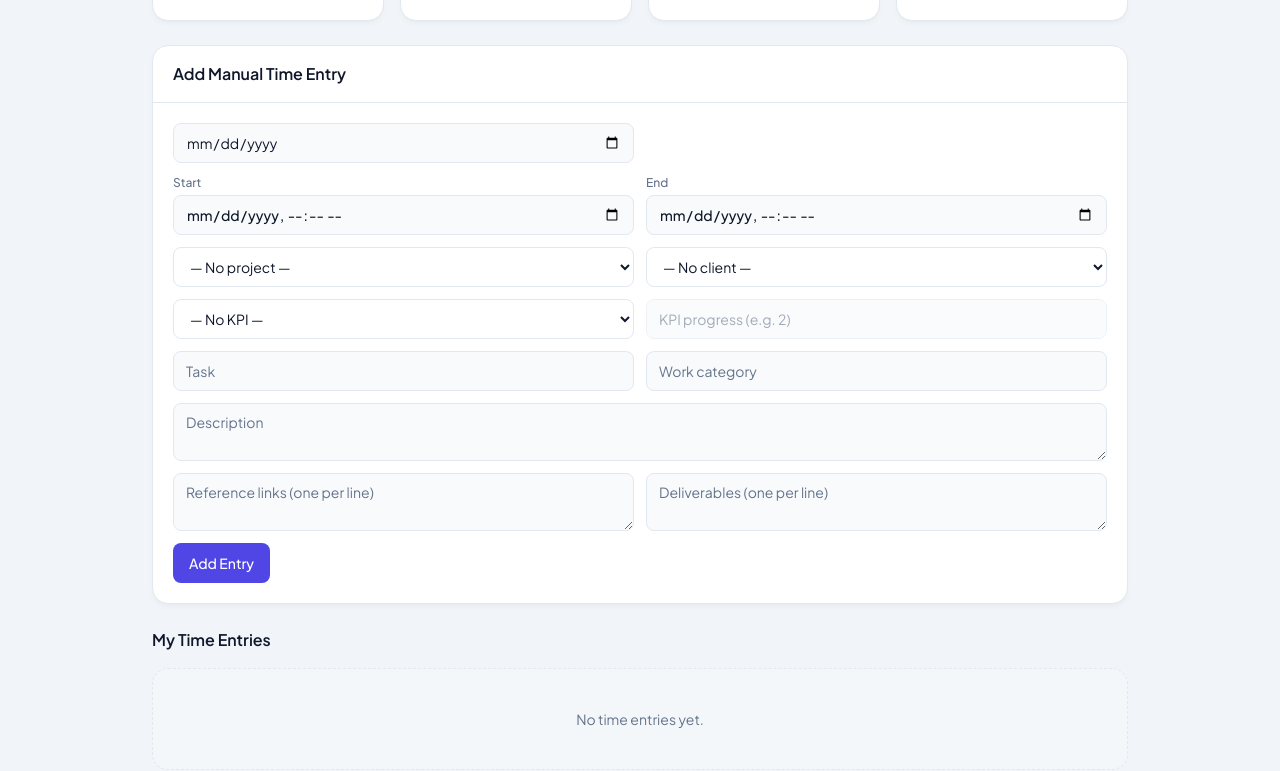
Test: TimeTrackingPage › displays field-level validation errors from a failed manual entry submission
The image size is (1280, 771).
(page scrolled)
Expected: the button "Add Entry" is shown, [173, 543, 270, 583]
Type "Overlap task" into the field with placeholder "Task".
click(404, 371); type("Overlap task")  # box [173, 351, 634, 391]
Type "Development" into the field with placeholder "Work category".
click(876, 371); type("Development")  # box [646, 351, 1107, 391]
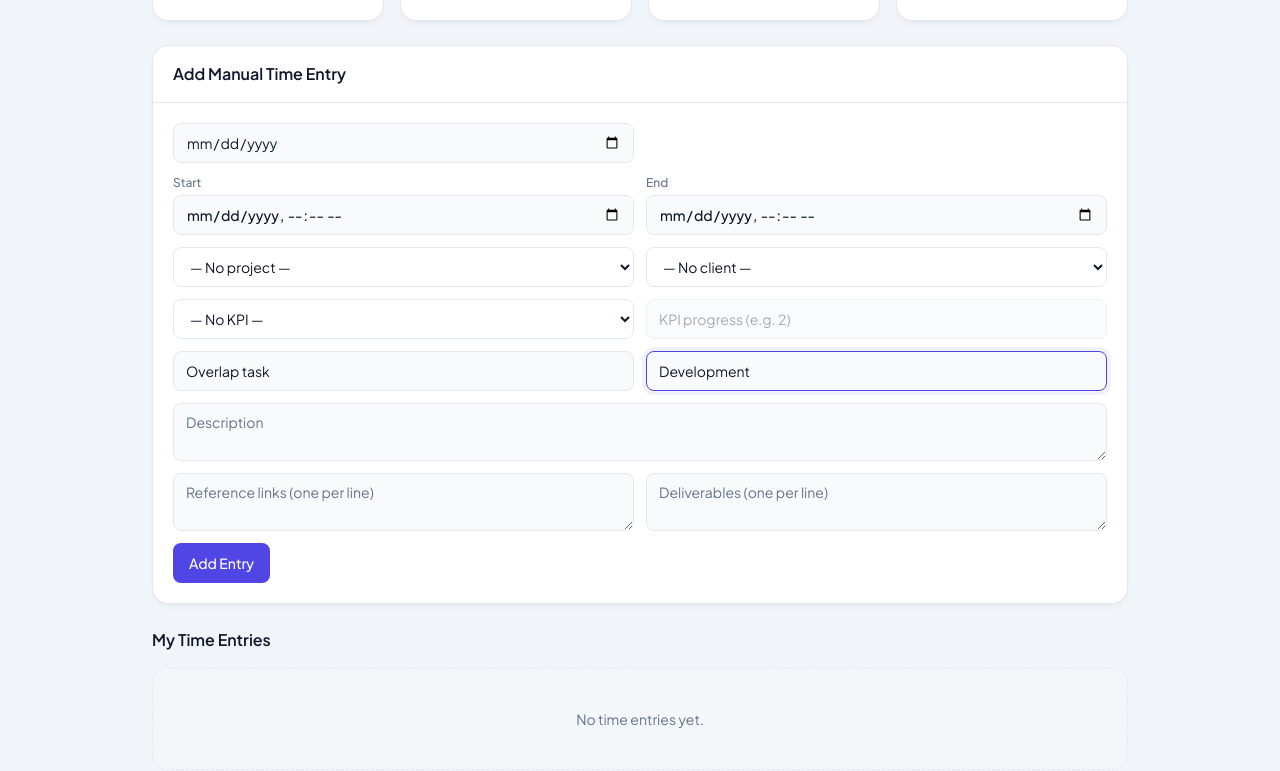
Type "Should fail." into the text box with placeholder "Description".
click(640, 432); type("Should fail.")  # box [173, 403, 1107, 461]
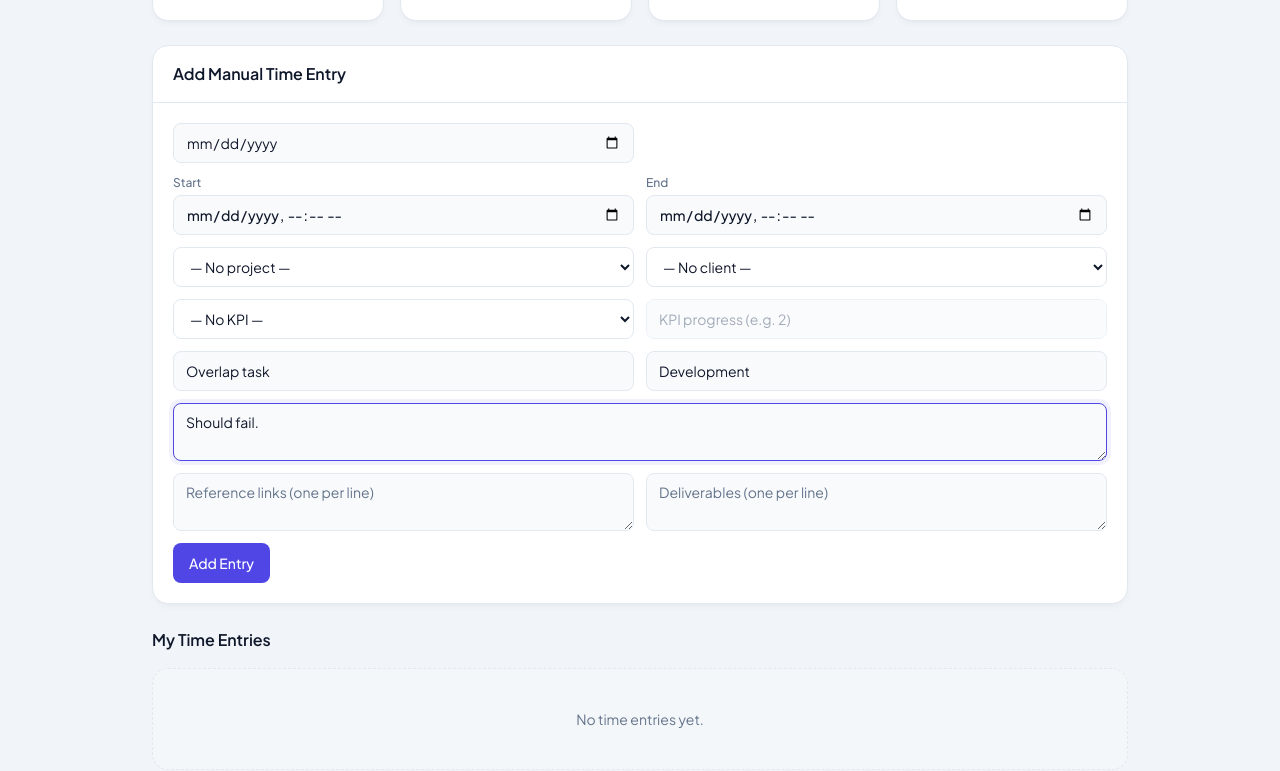
Type "2026-01-14" into the date field.
click(404, 143); type("2026-01-14")  # box [173, 123, 634, 163]
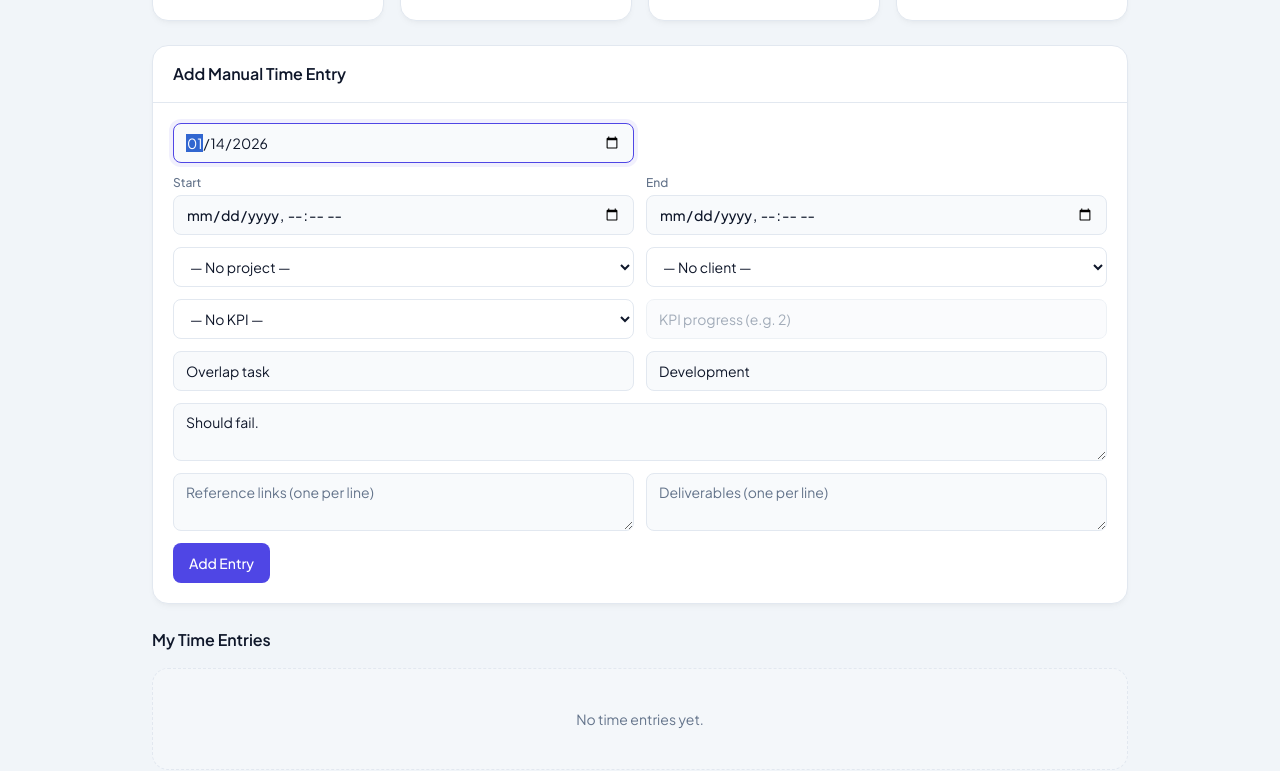
Type "2026-01-14T09:00" into the field labelled "Start".
click(404, 215); type("2026-01-14T09:00")  # box [173, 195, 634, 235]
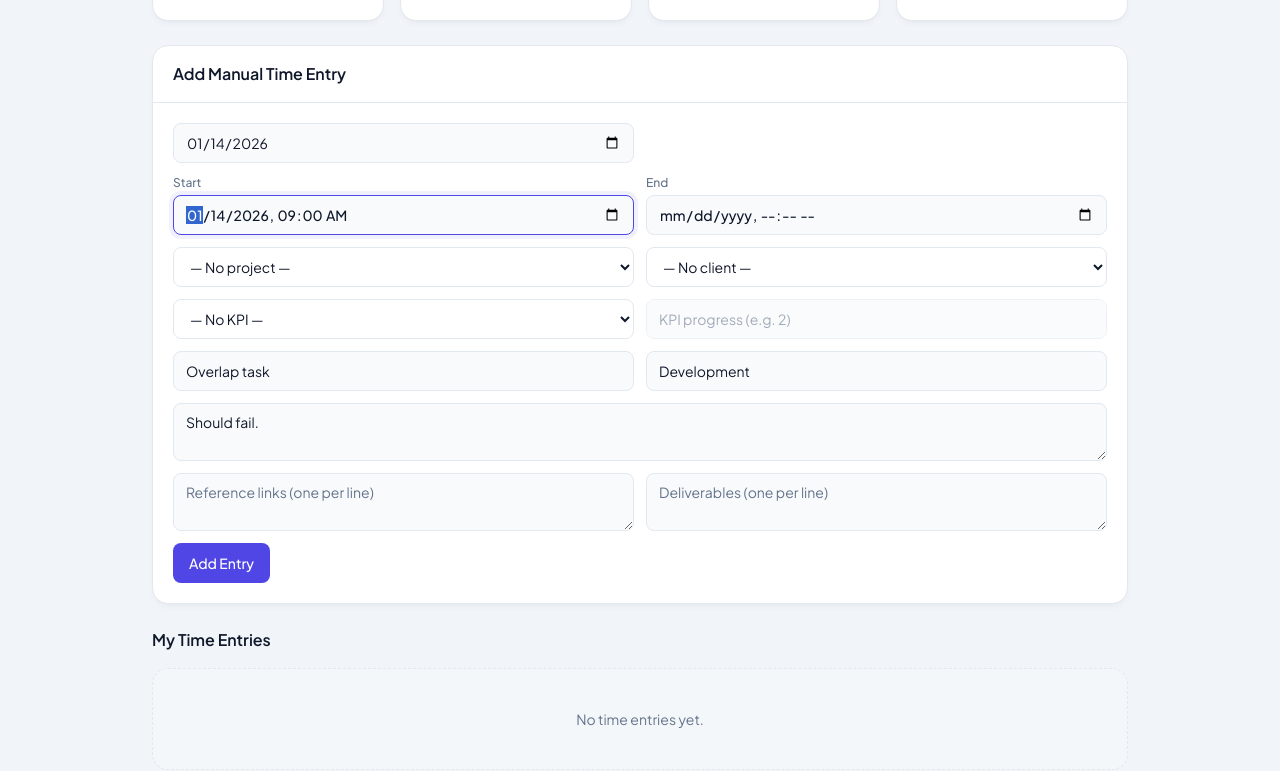
Type "2026-01-14T10:00" into the field labelled "End".
click(876, 215); type("2026-01-14T10:00")  # box [646, 195, 1107, 235]
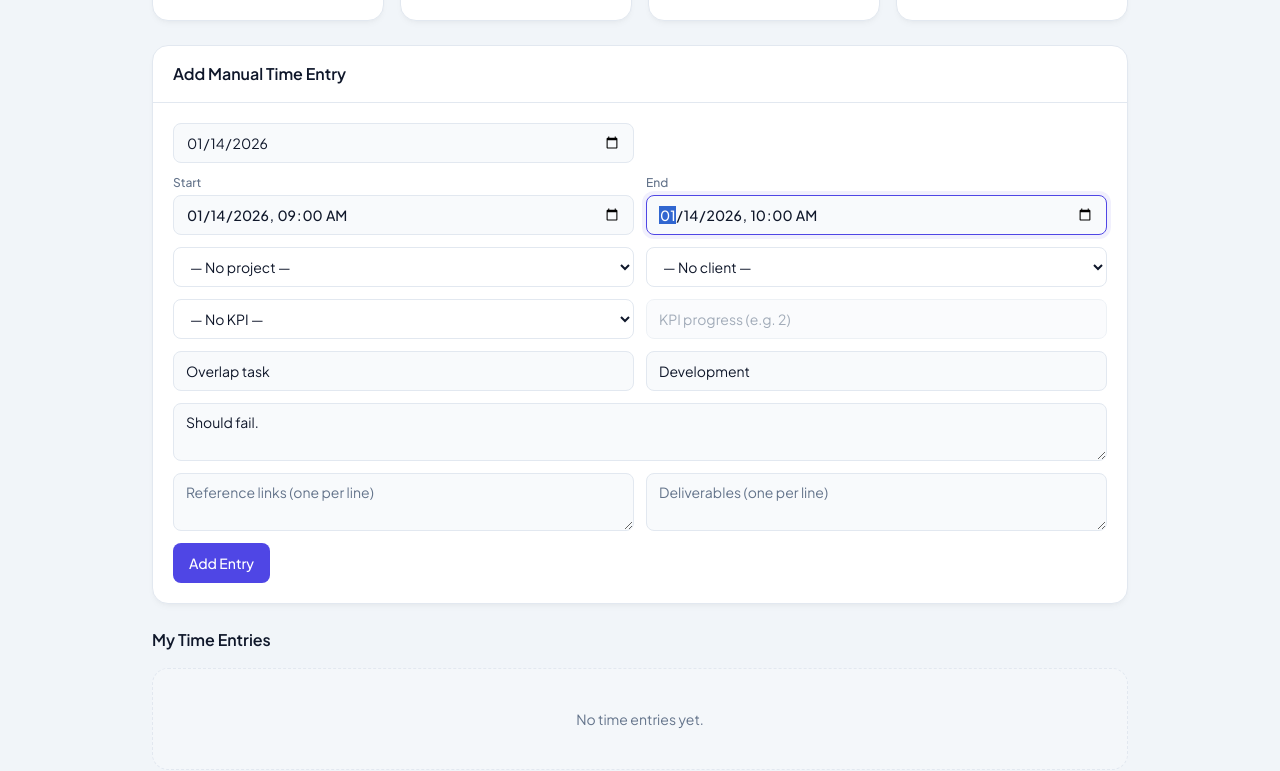
Click the button "Add Entry".
click(222, 563)  # box [173, 543, 270, 583]
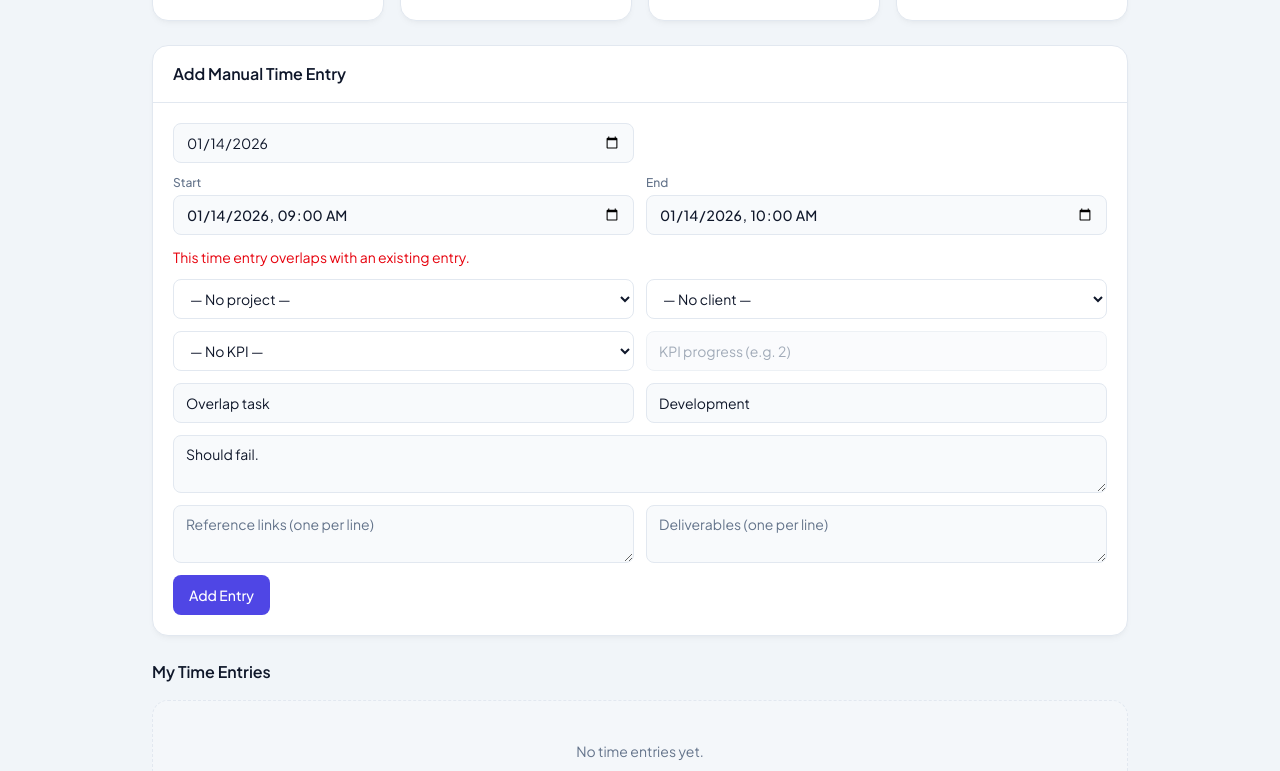
Expected: the text "This time entry overlaps with an existing entry." is shown, [173, 248, 470, 266]
